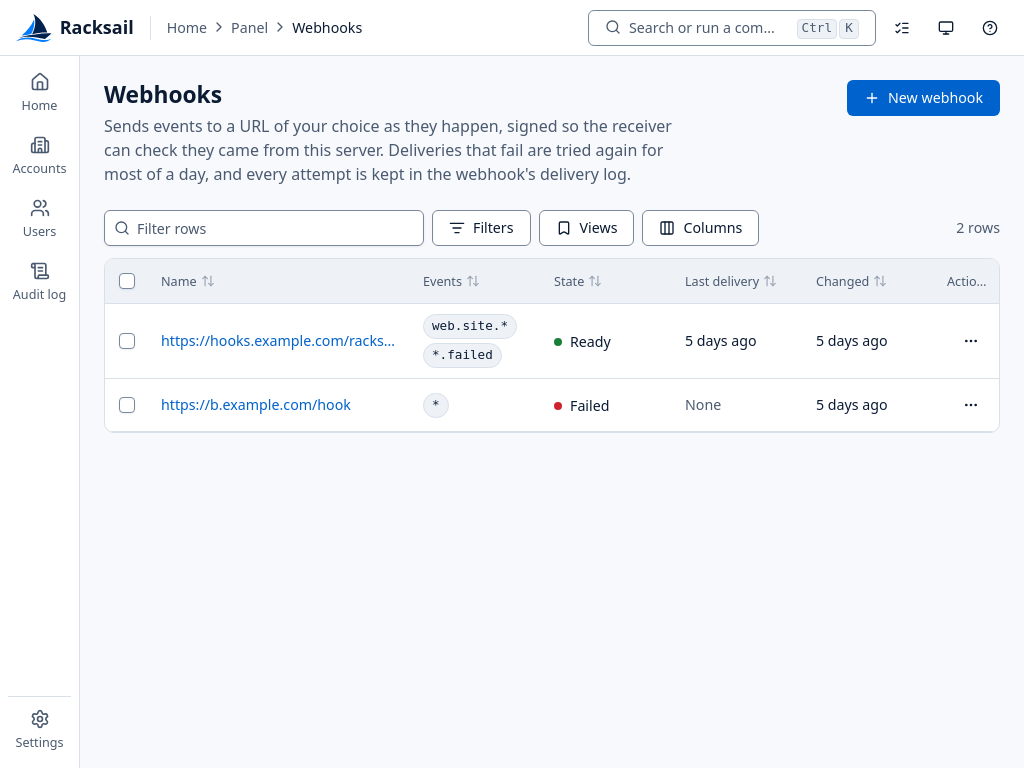
Test case: a kind's list › deletes the rows chosen as one change, through its preview
Expected: the link "https://b.example.com/hook" is shown, top-left (161, 395), bottom-right (351, 414)
Click the checkbox named "Select https://hooks.example.com/racksail".
click(127, 341)  # box top-left (119, 333), bottom-right (135, 349)
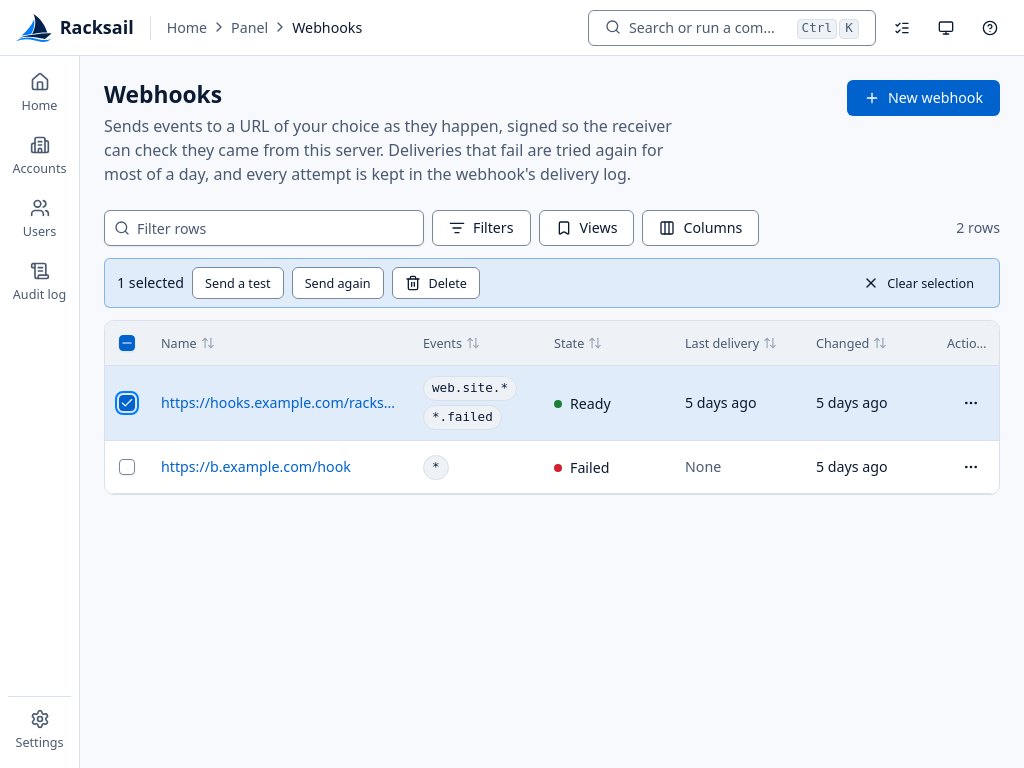
Click the checkbox named "Select https://b.example.com/hook".
click(127, 467)  # box top-left (119, 459), bottom-right (135, 475)
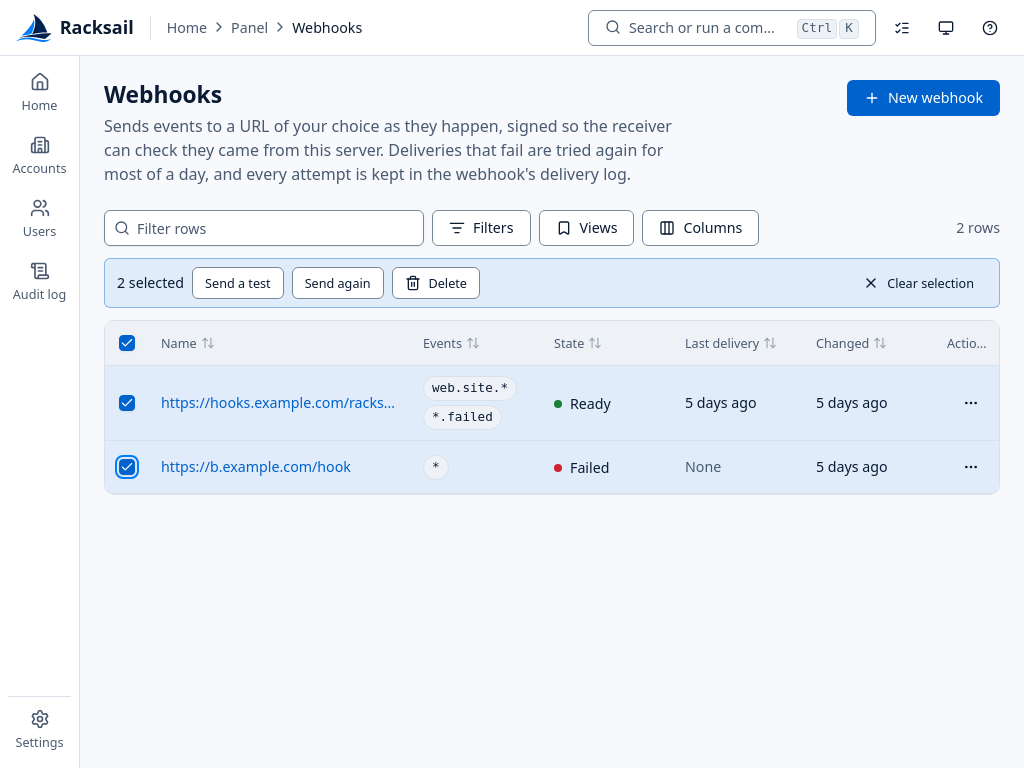
Click the button "Delete".
click(436, 283)  # box top-left (392, 267), bottom-right (480, 299)
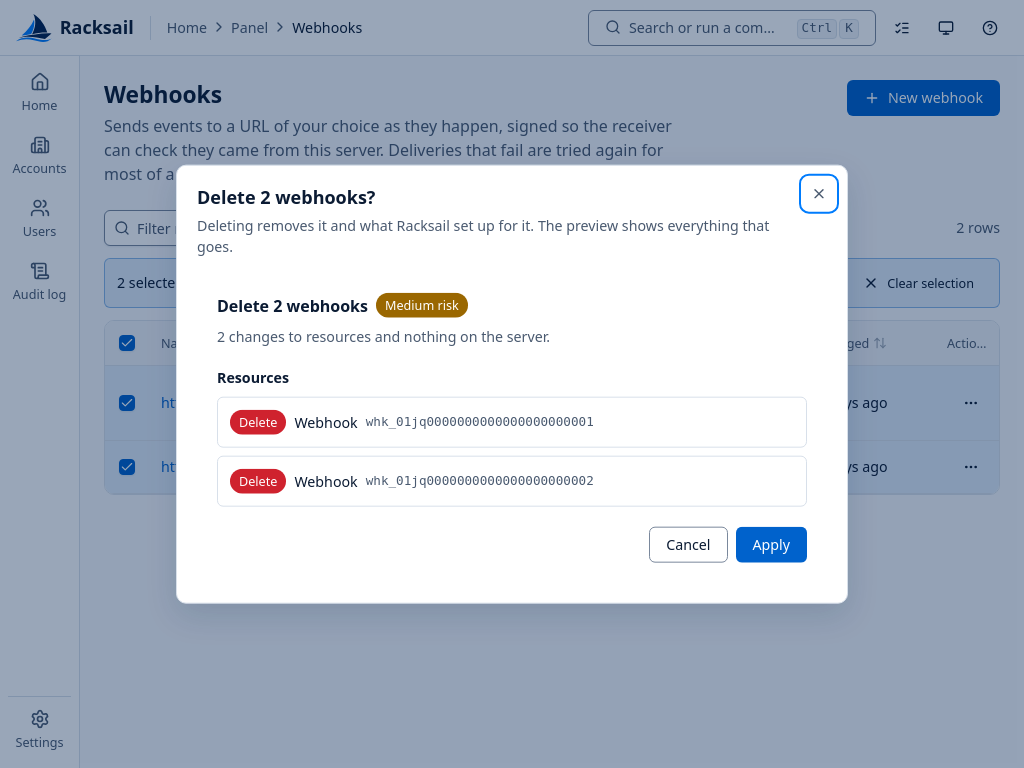
Expected: the heading "Delete 2 webhooks" is shown, top-left (217, 295), bottom-right (368, 315)
